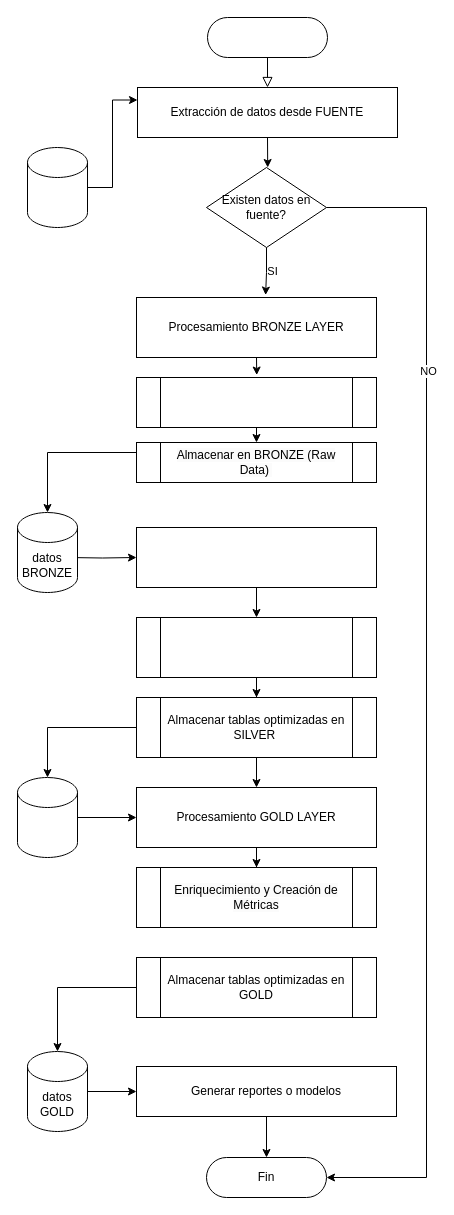
Some shapes in this 454 by 1215 pixel diagram are drawn without their labels. The centre of each missing label's shape, as x and y in pixels:
datos SILVER: point (47, 817)
Fuente de datos: point (57, 187)
Inicio: point (267, 37)
Normalización , limpieza y validación de datos: point (256, 647)
Procesamiento SILVER LAYER: point (256, 557)
Verificación inicial de valores nulos: point (256, 402)
